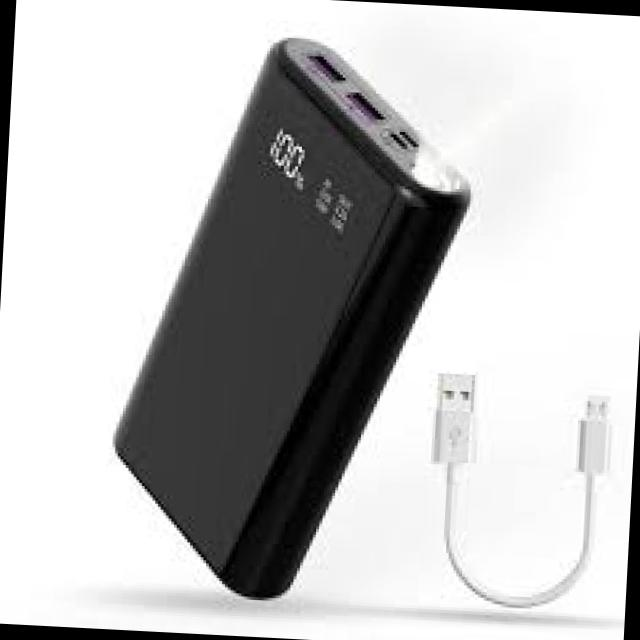portable-charger: (97, 18, 485, 611)
